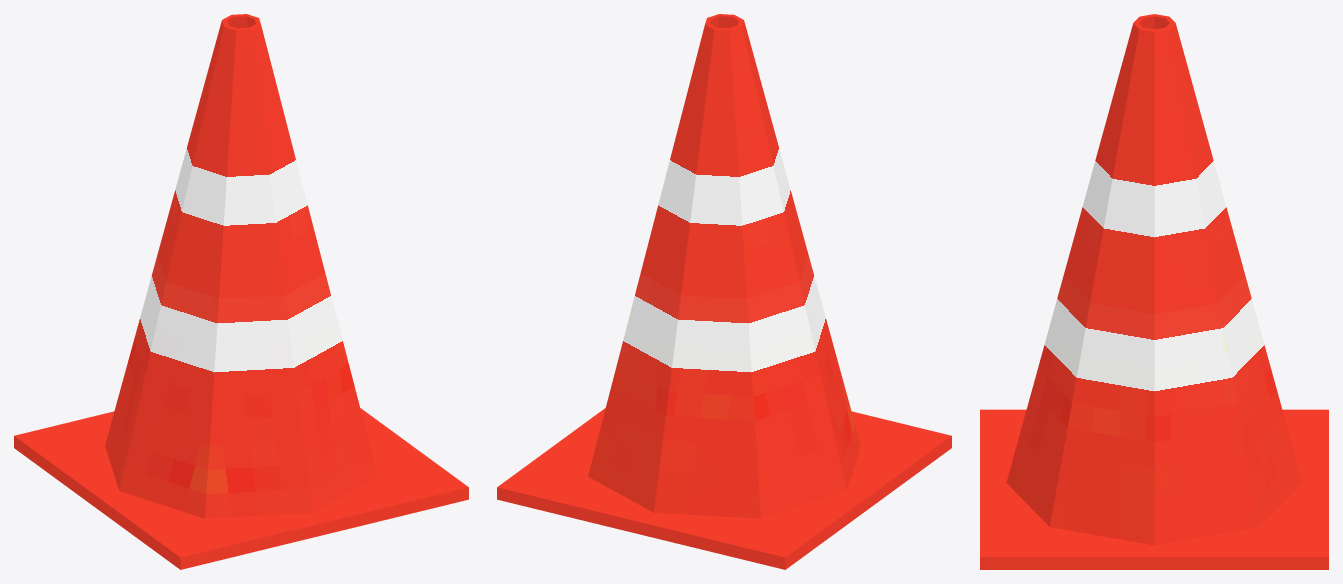
The picture shows the model from 3 angles, left to right: view 1: azimuth 30°, elevation 25°; view 2: azimuth 150°, elevation 25°; view 3: azimuth 270°, elevation 25°; orthographic projection. The views are drawn at different scales.
Visible parts, largest first — view 1: Cylinder; view 2: Cylinder; view 3: Cylinder.
Boxes of the visible parts, box(x1,y1,x2,y2) form: Cylinder: box(14, 14, 468, 569); Cylinder: box(497, 14, 951, 569); Cylinder: box(980, 14, 1328, 569).
Bounding box in the file's own units: 0.8706 × 1.3 × 0.8706.
Materials: 1 (1 with a texture image).
